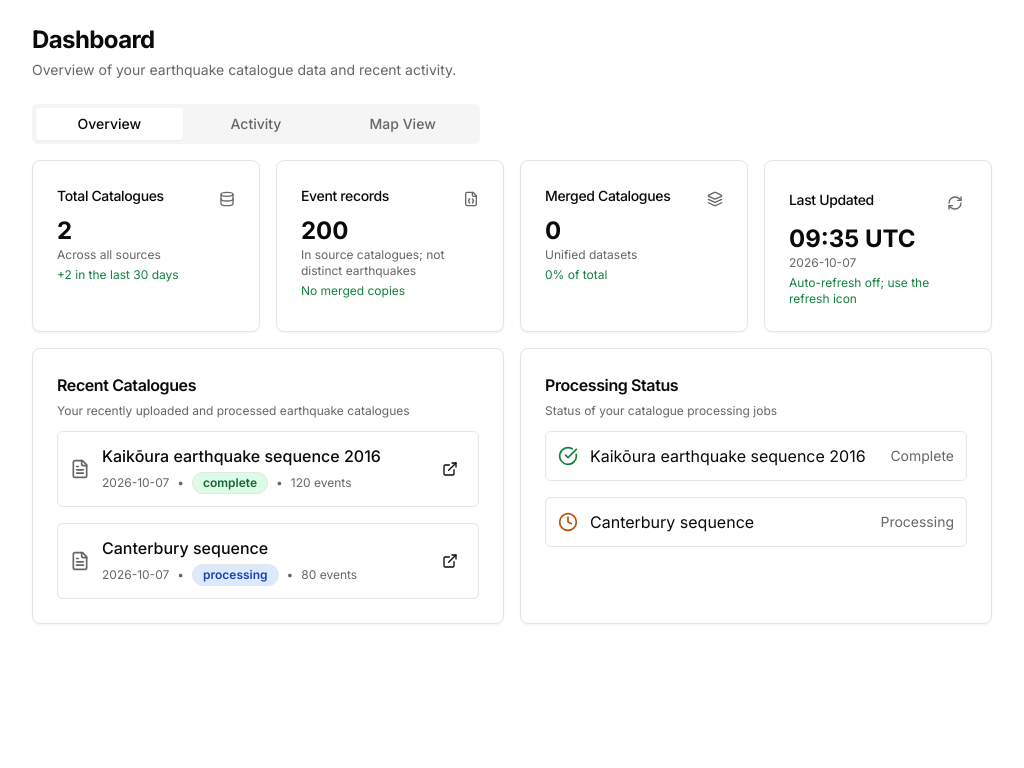
Test case: dashboard page › keeps figures with a stale notice when a refresh fails
What coordinates should you click on to do the following:
click the button named "Refresh catalogue data"
I would click on:
 (955, 203)
Its box is [943,191,967,215].
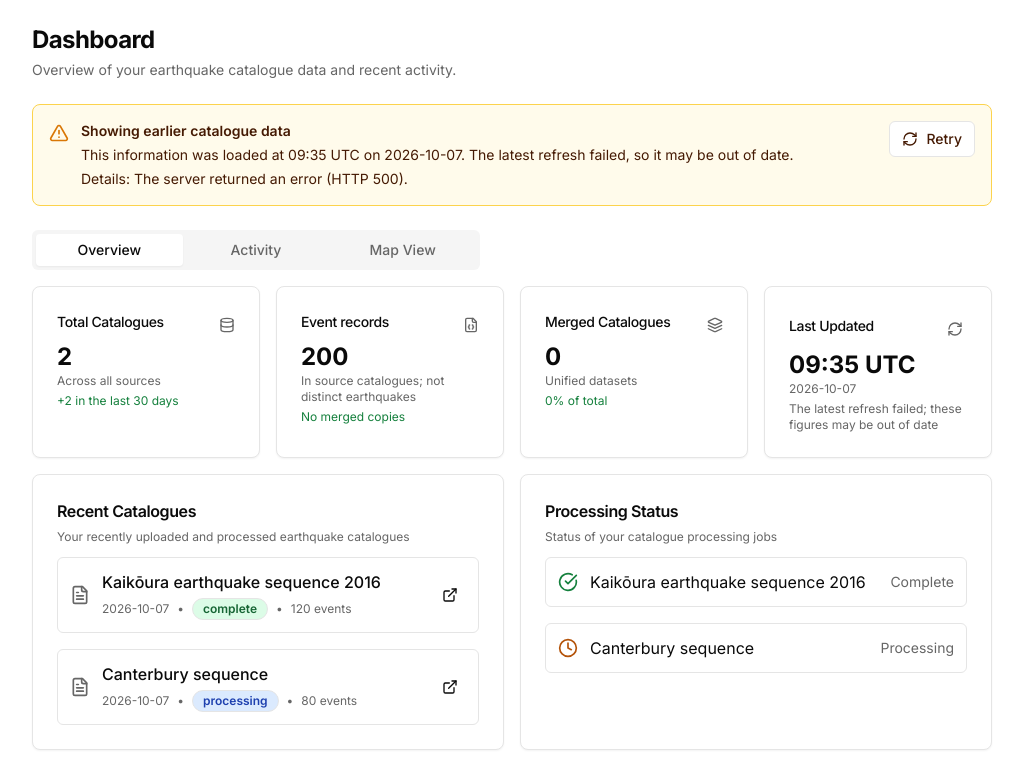
Expected: the message is shown, [32,104,992,206]
